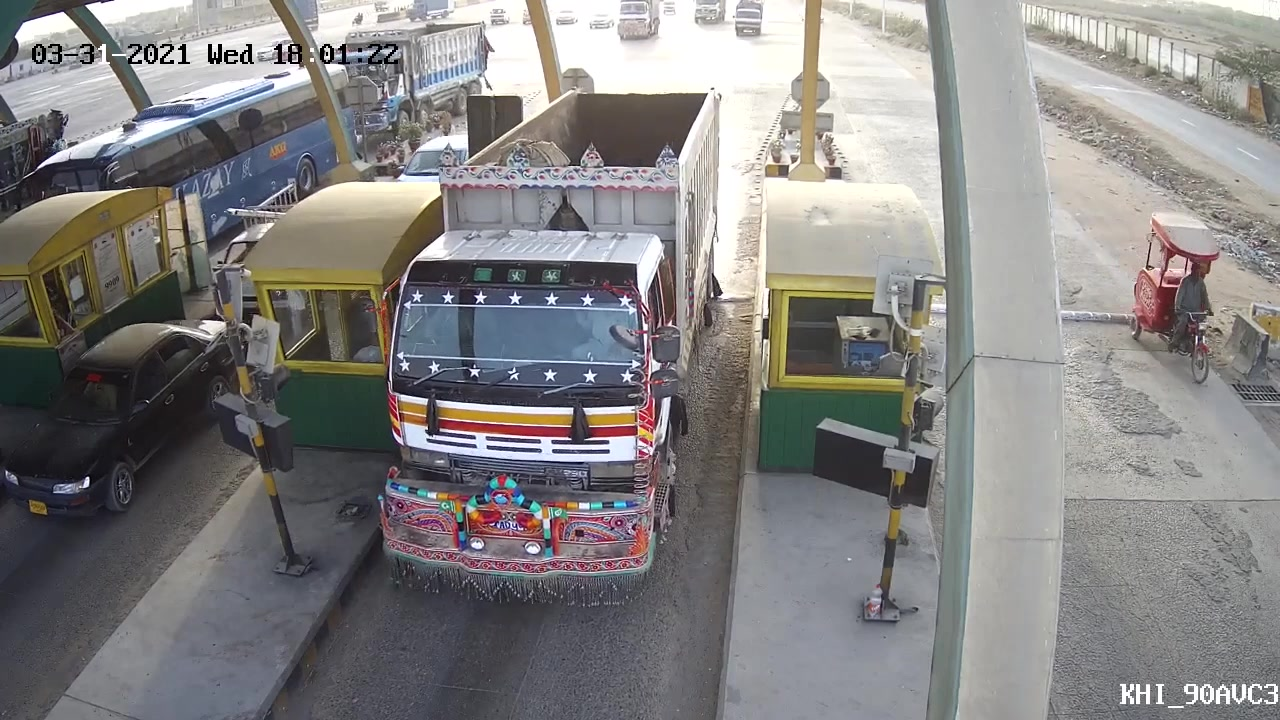F5: (363, 83, 738, 611)
